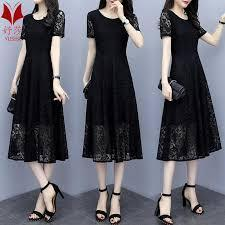dress: (146, 8, 224, 177), (80, 5, 153, 168), (9, 10, 77, 170)
